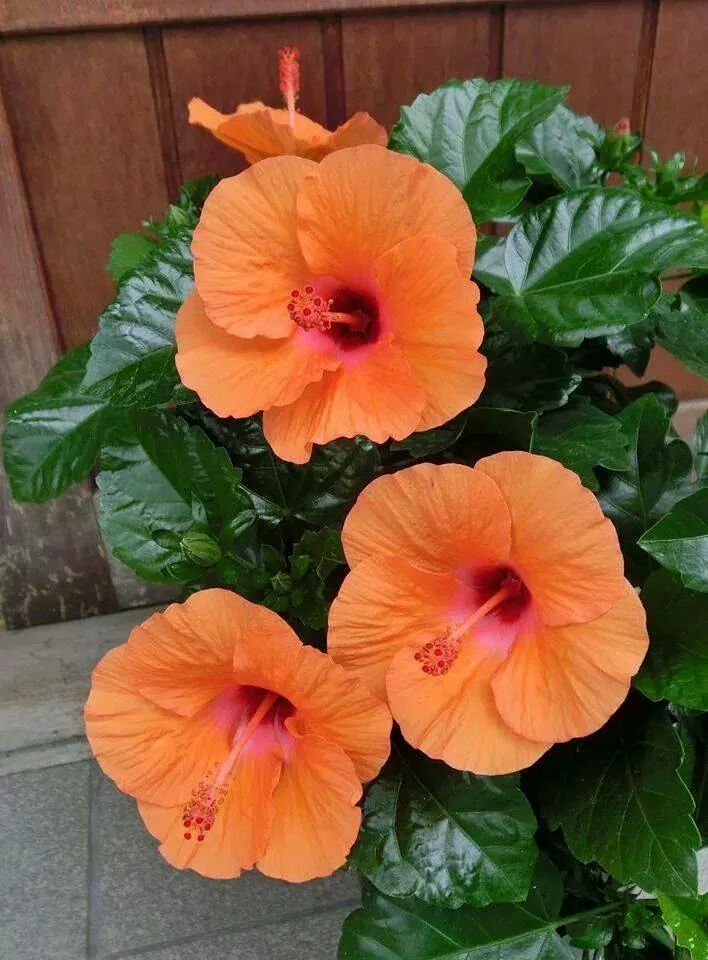Hibiscus: (309, 473, 654, 776), (181, 151, 494, 446), (76, 608, 374, 891), (186, 23, 401, 168)
